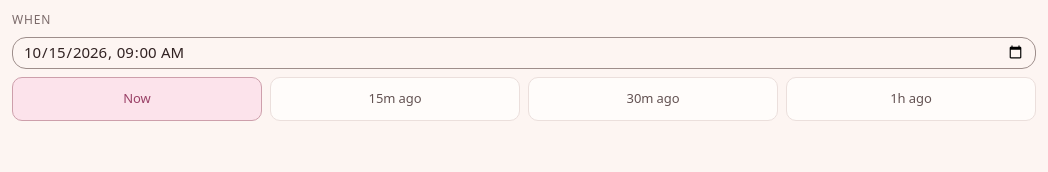
it: 'Now' on a sheet left open still means now
expect the field labelled "When" holds "2026-10-15T09:00": met, box [13,36,1035,68]
Click the radio button labelled "Now". click: [137, 98]
box: [12,76,262,120]
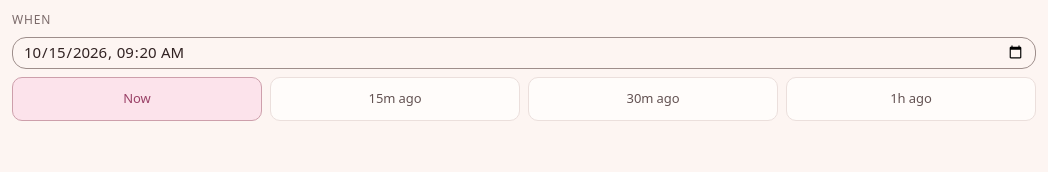
expect the field labelled "When" holds "2026-10-15T09:20": met, box [13,36,1035,68]
